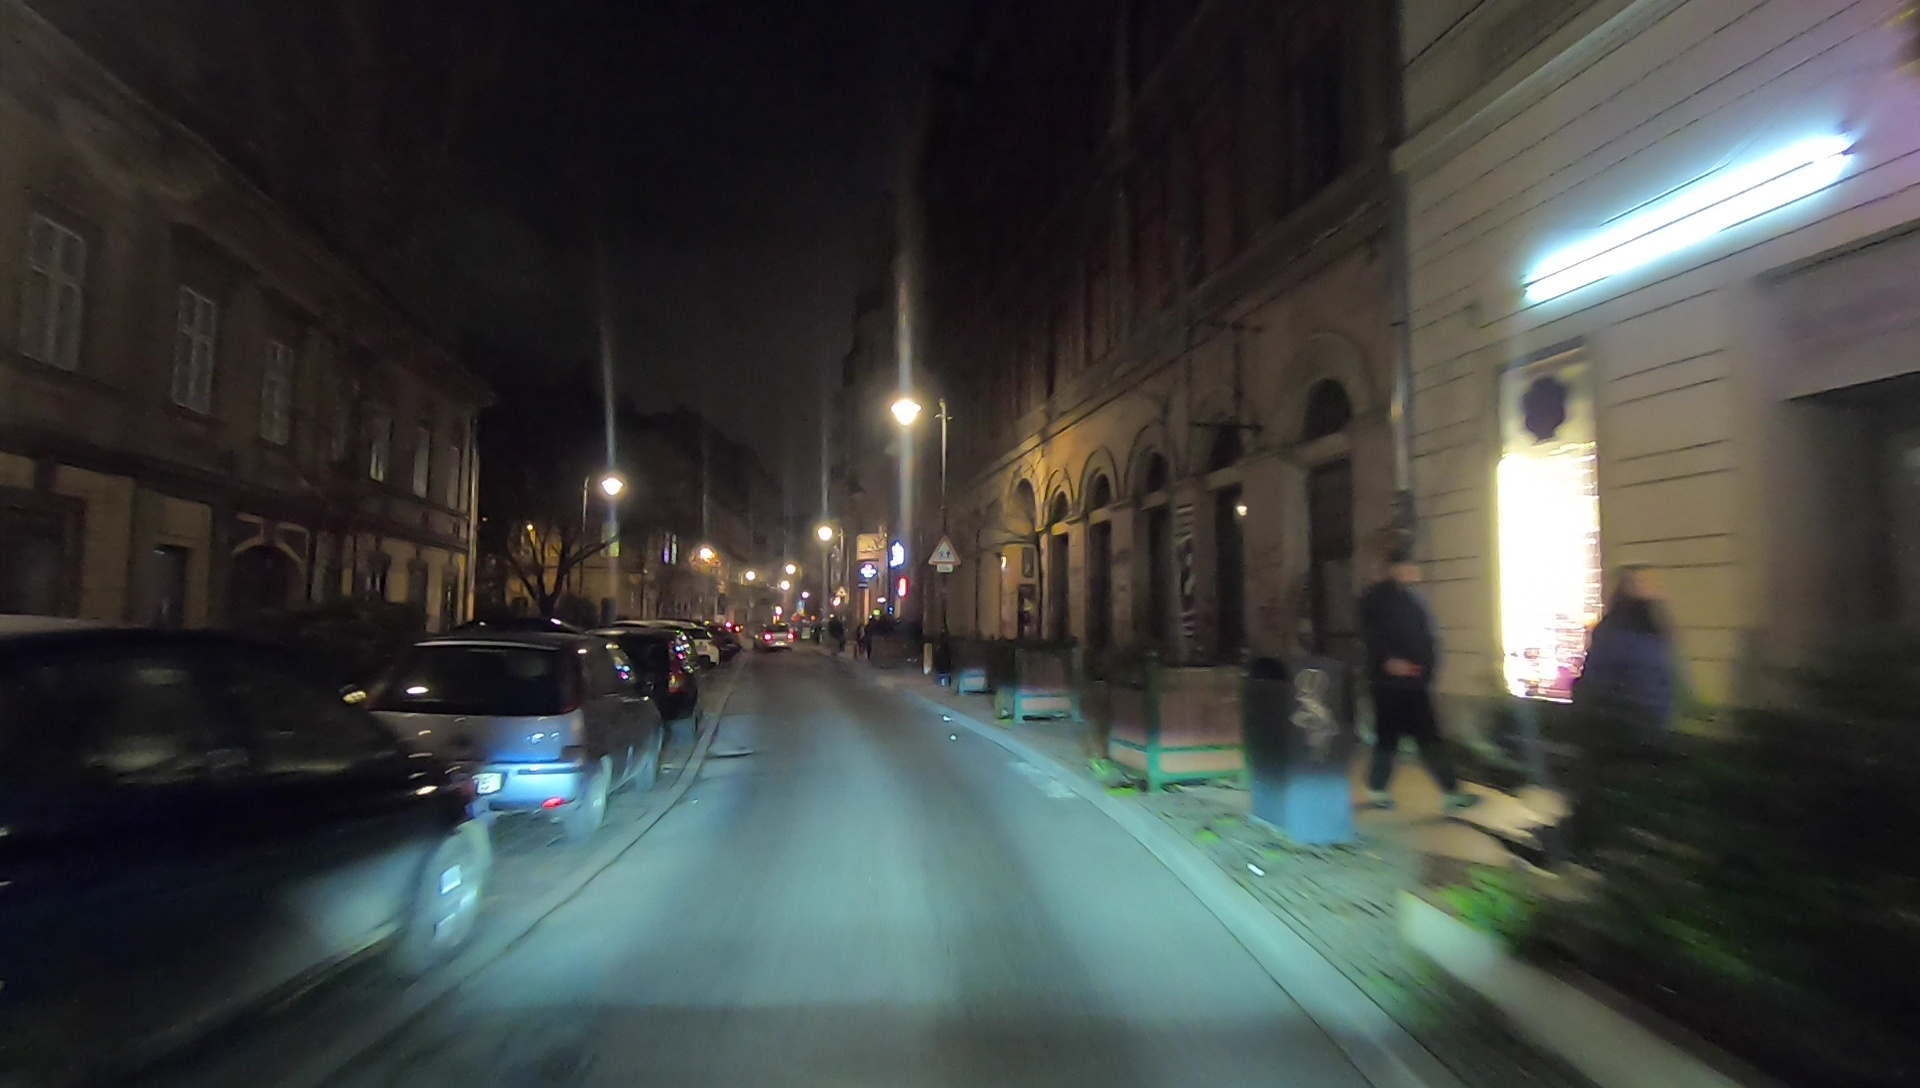person: (1356, 556, 1482, 821), (1571, 567, 1689, 837)
